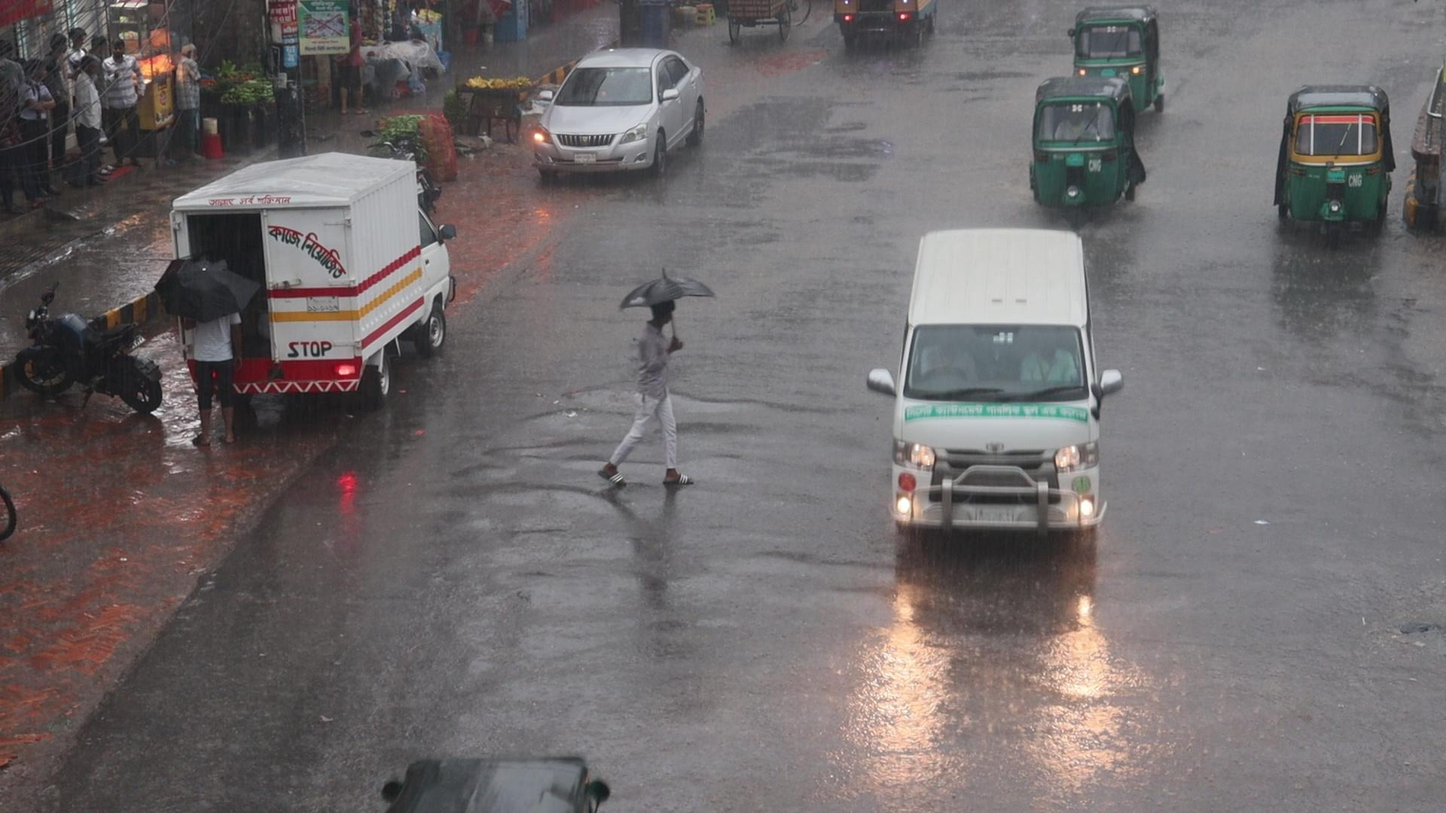Car: (871, 225, 1121, 536), (533, 47, 708, 172)
